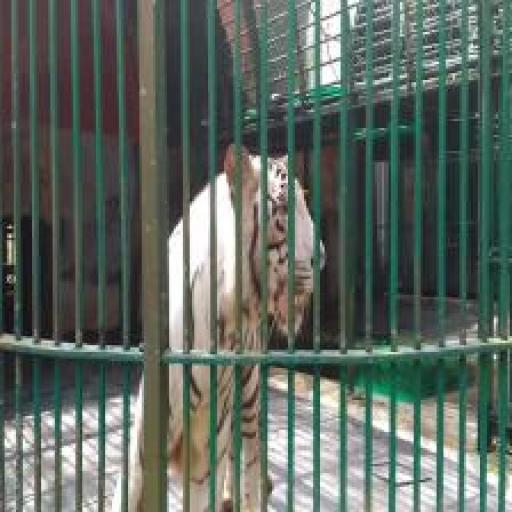Tiger: (110, 139, 327, 512)
